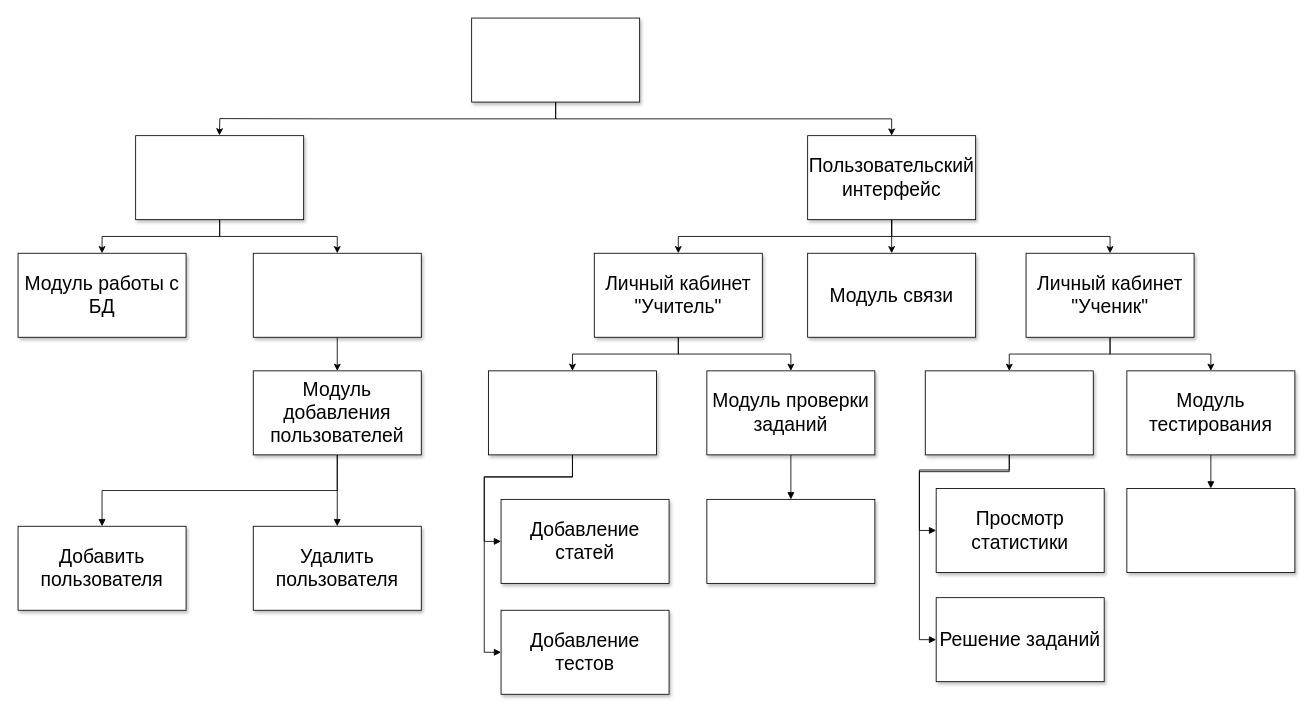
The diagram is 1315 pixels wide and 715 high, and some of its shapes have lost their labels. The shapes that lost their labels are listed below. From the top down, each one's centre as x and y in pixels, then its label:
(556,61): Система дистанционного обучения
(220,178): Сервер
(337,296): Административная панель
(573,414): Модуль создания курсов
(1009,414): Модуль прохождения курсов
(791,542): Оценка заданий
(1211,531): Решение тестов
